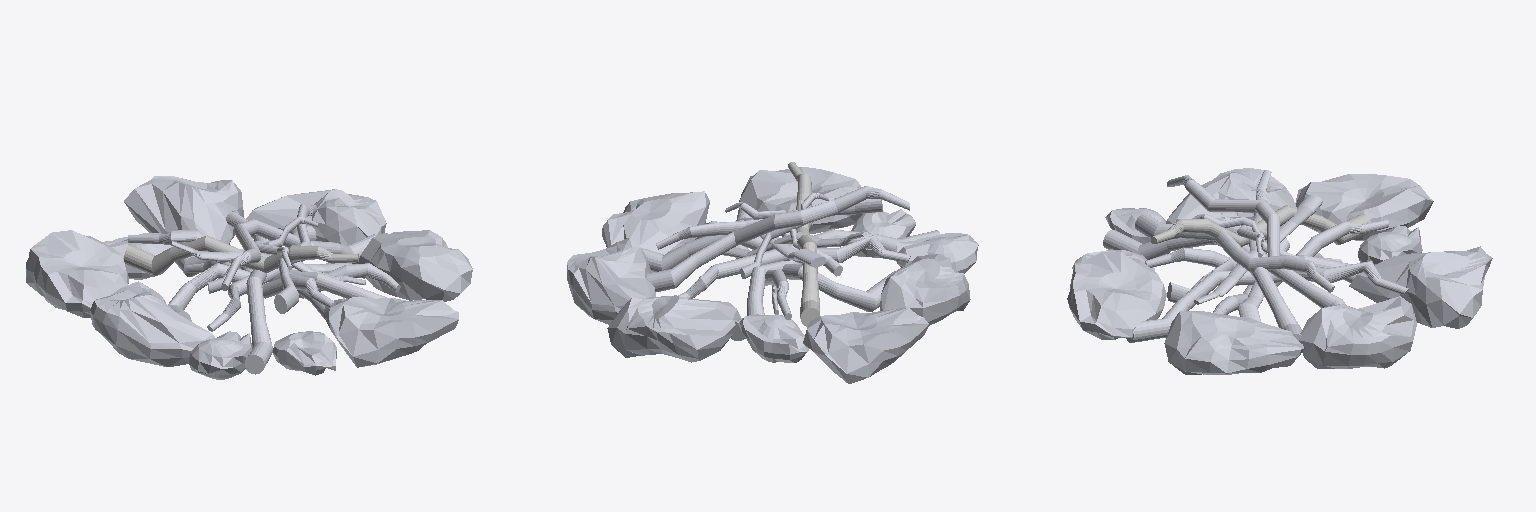
Rendered from camp-fire.obj.
3 renders of one model, left to right at view 1: azimuth 30°, elevation 25°; view 2: azimuth 150°, elevation 25°; view 3: azimuth 270°, elevation 25°, orthographic.
Parts seen in each view (by area): view 1: Big_rock3, Bigrock2, Big_rock1, Bigrock4, Bigrock5, Big_Rock, Big_Branch, Small_Rock2, Small_rock3, Branch, Branch2, Branch5 (+9 smaller); view 2: Bigrock5, Big_rock1, Big_Rock, Bigrock2, Bigrock4, Branch5, Big_rock3, Small_Rock, Branch7, Branch, Small_Rock2, Big_Branch (+9 smaller); view 3: Bigrock5, Bigrock4, Big_Rock, Big_rock3, Big_rock1, Branch5, Branch4, Bigrock2, Branch, Branch6, Big_Branch, Small_Rock (+8 smaller).
Part boxes in pixels (bbox=[...]): Big_rock3: bbox=[326, 297, 458, 367]; Bigrock2: bbox=[90, 281, 214, 366]; Big_rock1: bbox=[26, 230, 128, 317]; Bigrock4: bbox=[357, 230, 472, 301]; Bigrock5: bbox=[124, 176, 243, 244]; Big_Rock: bbox=[246, 189, 386, 245]; Big_Branch: bbox=[124, 235, 358, 275]; Small_Rock2: bbox=[189, 331, 251, 379]; Small_rock3: bbox=[273, 331, 336, 375]; Branch: bbox=[226, 210, 272, 374]; Branch2: bbox=[168, 263, 400, 321]; Branch5: bbox=[221, 219, 316, 290]; Bigrock5: bbox=[607, 295, 741, 362]; Big_rock1: bbox=[803, 308, 928, 383]; Big_Rock: bbox=[567, 238, 655, 324]; Bigrock2: bbox=[880, 254, 970, 325]; Bigrock4: bbox=[602, 191, 709, 272]; Branch5: bbox=[647, 186, 909, 291]; Big_rock3: bbox=[739, 167, 862, 233]; Small_Rock: bbox=[738, 314, 808, 362]; Branch7: bbox=[641, 235, 910, 271]; Branch: bbox=[678, 229, 940, 298]; Small_Rock2: bbox=[895, 233, 978, 273]; Big_Branch: bbox=[788, 162, 819, 326]; Bigrock5: bbox=[1349, 246, 1492, 328]; Bigrock4: bbox=[1164, 311, 1304, 374]; Big_Rock: bbox=[1299, 296, 1416, 368]; Big_rock3: bbox=[1067, 252, 1166, 339]; Big_rock1: bbox=[1295, 174, 1433, 240]; Branch5: bbox=[1167, 175, 1345, 307]; Branch4: bbox=[1126, 220, 1389, 342]; Bigrock2: bbox=[1166, 168, 1296, 245]; Branch: bbox=[1103, 230, 1408, 294]; Branch6: bbox=[1135, 213, 1334, 292]; Big_Branch: bbox=[1151, 205, 1371, 246]; Small_Rock: bbox=[1358, 225, 1422, 264].
Bounding box in the file's own units: 13.56 × 3.67 × 14.1.